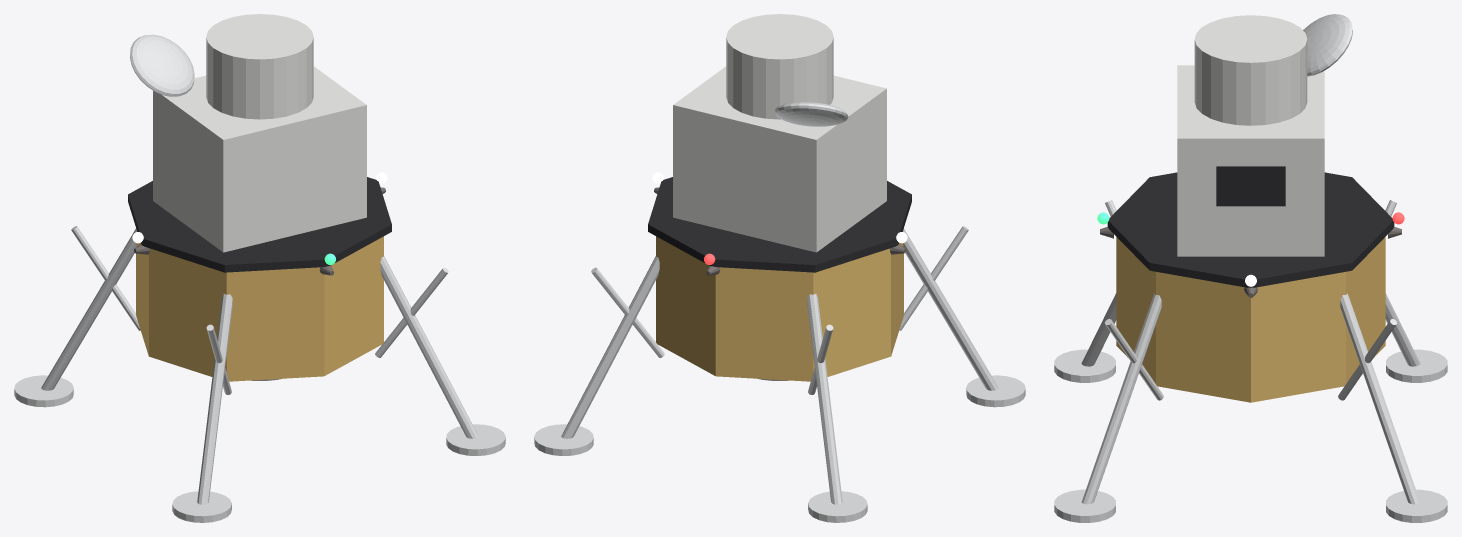
File: lander.glb
3 renders of one model, left to right at view 1: azimuth 30°, elevation 25°; view 2: azimuth 150°, elevation 25°; view 3: azimuth 270°, elevation 25°, orthographic. The views are drawn at different scales.
Visible parts, largest first — view 1: ascent_stage, descent_stage, docking_tunnel, deck, hga_dish, leg_strut_3, leg_strut_4, leg_strut_2, footpad_mesh_3, footpad_mesh_4, footpad_mesh_2, leg_brace_2 (+1 smaller); view 2: ascent_stage, descent_stage, docking_tunnel, deck, leg_strut_2, leg_strut_1, leg_strut_3, footpad_mesh_2, hga_dish, footpad_mesh_1, footpad_mesh_3, leg_brace_3 (+1 smaller); view 3: descent_stage, ascent_stage, deck, docking_tunnel, window_panel, leg_strut_1, leg_strut_4, hga_dish, footpad_mesh_1, footpad_mesh_4, footpad_mesh_2, footpad_mesh_3 (+4 smaller).
Boxes of the visible parts, bbox=[...] form: ascent_stage: bbox=[153, 66, 366, 252]; descent_stage: bbox=[136, 228, 383, 381]; docking_tunnel: bbox=[206, 14, 313, 119]; deck: bbox=[128, 177, 391, 272]; hga_dish: bbox=[130, 34, 194, 96]; leg_strut_3: bbox=[197, 294, 232, 504]; leg_strut_4: bbox=[380, 256, 478, 438]; leg_strut_2: bbox=[41, 229, 136, 390]; footpad_mesh_3: bbox=[172, 491, 231, 522]; footpad_mesh_4: bbox=[446, 424, 505, 455]; footpad_mesh_2: bbox=[14, 375, 73, 407]; leg_brace_2: bbox=[71, 226, 140, 330]; ascent_stage: bbox=[673, 66, 886, 252]; descent_stage: bbox=[656, 228, 903, 381]; docking_tunnel: bbox=[726, 14, 833, 119]; deck: bbox=[648, 177, 911, 272]; leg_strut_2: bbox=[807, 294, 842, 504]; leg_strut_1: bbox=[561, 256, 659, 438]; leg_strut_3: bbox=[903, 229, 998, 390]; footpad_mesh_2: bbox=[808, 491, 867, 522]; hga_dish: bbox=[774, 101, 848, 126]; footpad_mesh_1: bbox=[534, 424, 593, 455]; footpad_mesh_3: bbox=[966, 375, 1025, 407]; leg_brace_3: bbox=[899, 226, 968, 330]; descent_stage: bbox=[1116, 237, 1385, 402]; ascent_stage: bbox=[1177, 65, 1324, 256]; deck: bbox=[1107, 172, 1394, 287]; docking_tunnel: bbox=[1194, 15, 1307, 125]; window_panel: bbox=[1216, 166, 1285, 206]; leg_strut_1: bbox=[1340, 293, 1420, 504]; leg_strut_4: bbox=[1081, 293, 1161, 504]; hga_dish: bbox=[1303, 14, 1352, 76]; footpad_mesh_1: bbox=[1386, 489, 1447, 522]; footpad_mesh_4: bbox=[1054, 489, 1115, 522]; footpad_mesh_2: bbox=[1386, 349, 1447, 382]; footpad_mesh_3: bbox=[1054, 349, 1115, 382].
Bounding box in the file's own units: 4.53 × 5.12 × 4.53.
